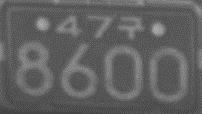0: (147, 45, 187, 104), (103, 44, 143, 101)
4: (55, 14, 82, 38)
6: (59, 41, 98, 99)
7: (86, 13, 113, 39)
8: (15, 39, 54, 97)
구: (117, 15, 143, 39)
